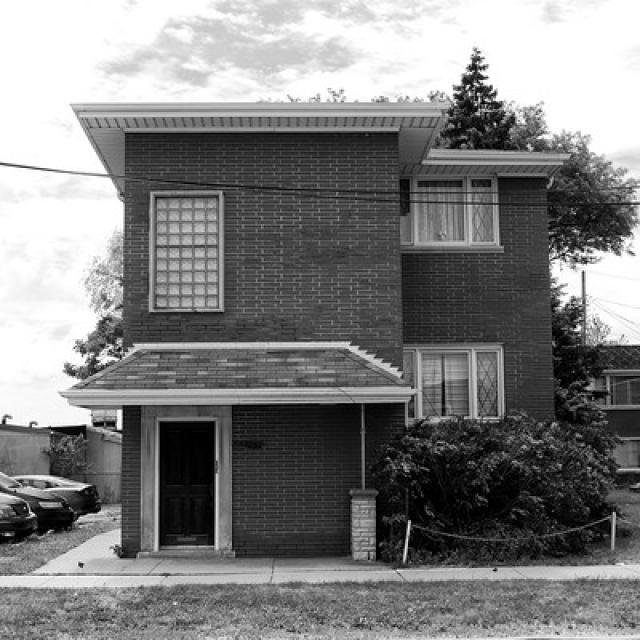Normal_building: (54, 98, 576, 569)
